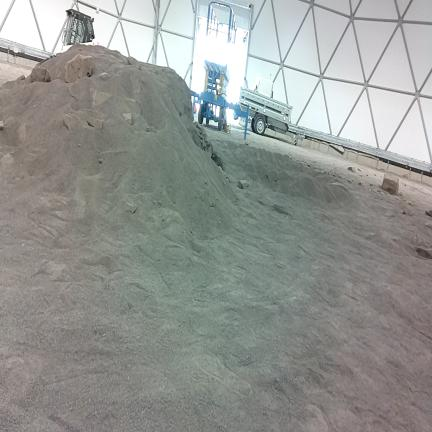Rock: (65, 55, 93, 82), (91, 89, 112, 106), (382, 173, 398, 194), (31, 67, 50, 82), (415, 242, 431, 258), (64, 114, 79, 130), (0, 153, 13, 168), (131, 73, 140, 94), (212, 152, 223, 169), (87, 117, 102, 129), (124, 201, 136, 213), (127, 57, 139, 67), (122, 113, 132, 125), (267, 171, 279, 181), (413, 234, 422, 246), (219, 166, 227, 178), (99, 73, 110, 81), (239, 180, 248, 189), (403, 206, 412, 215), (209, 196, 215, 207), (331, 182, 344, 187), (147, 126, 156, 132), (203, 129, 207, 140), (17, 75, 25, 80), (139, 64, 145, 70), (425, 222, 431, 228), (0, 121, 4, 130), (426, 210, 431, 217), (348, 167, 355, 172), (98, 158, 102, 164), (158, 200, 162, 206), (244, 140, 248, 146), (407, 201, 412, 205), (357, 168, 362, 172), (395, 196, 400, 200), (348, 179, 353, 183), (307, 163, 311, 167), (324, 170, 328, 173), (370, 183, 373, 187), (380, 191, 384, 194), (333, 173, 336, 177), (78, 143, 81, 146), (360, 174, 362, 177), (359, 182, 361, 185), (366, 174, 368, 176)
